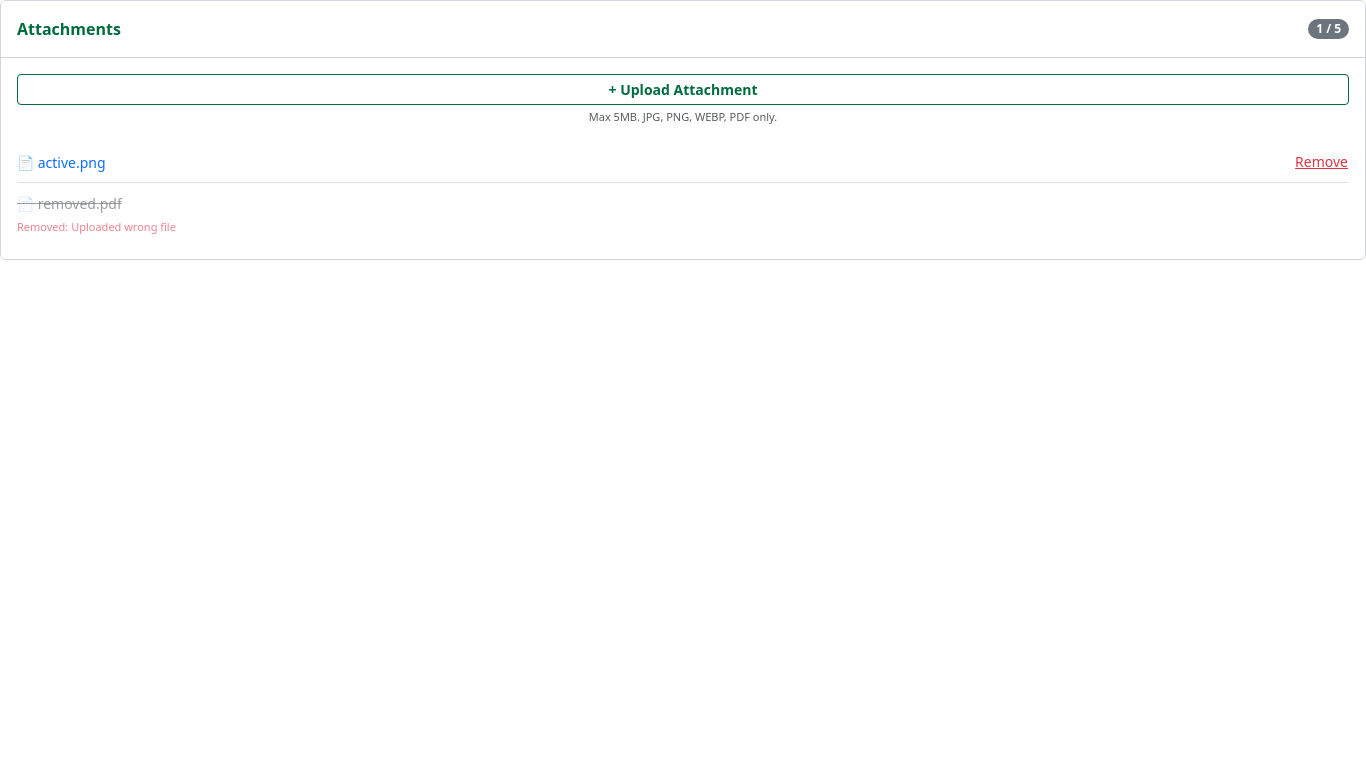
Test: AttachmentSection Component › should validate removal reason in modal
Step 1. Click the button "Remove" → (1322, 162), box top-left (1294, 150), bottom-right (1349, 173)
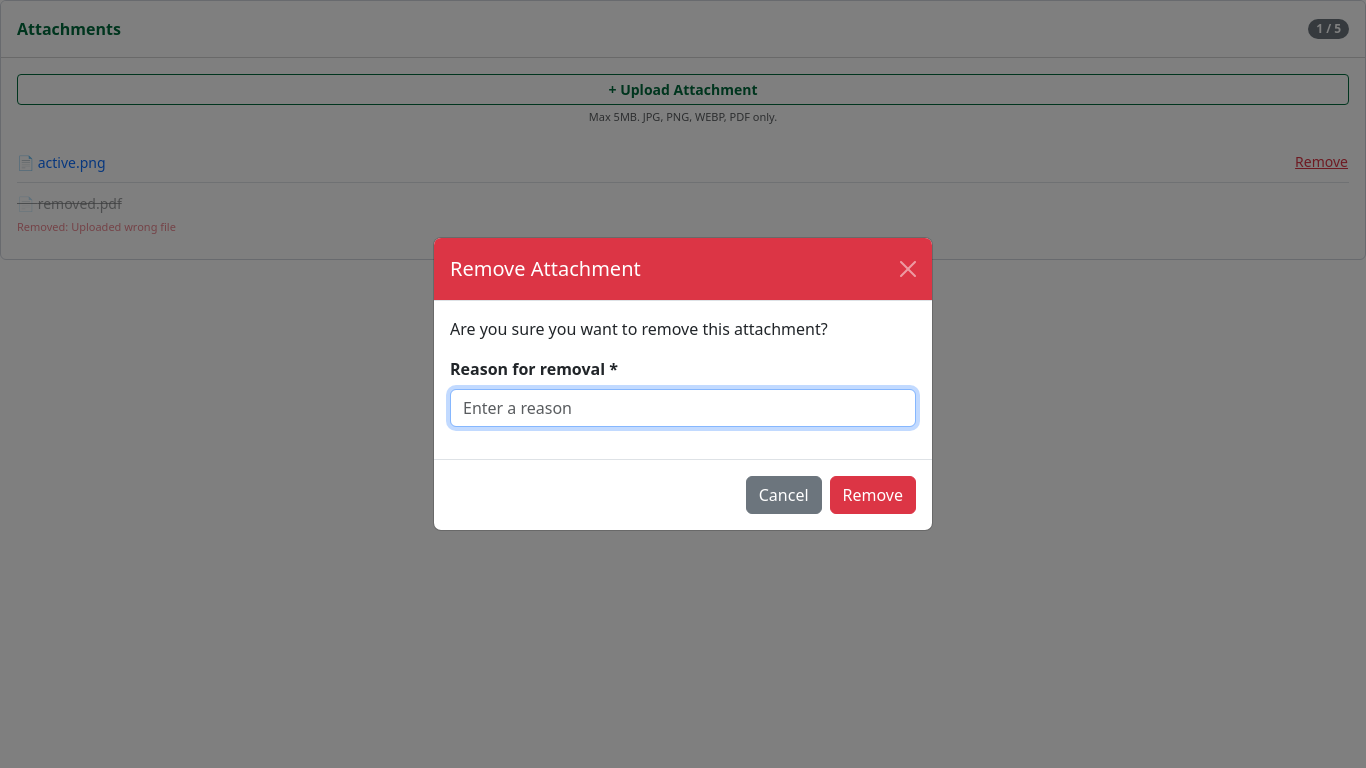
// click confirm without text
Step 2. Click the button "Remove" → (873, 495), box top-left (830, 476), bottom-right (916, 514)
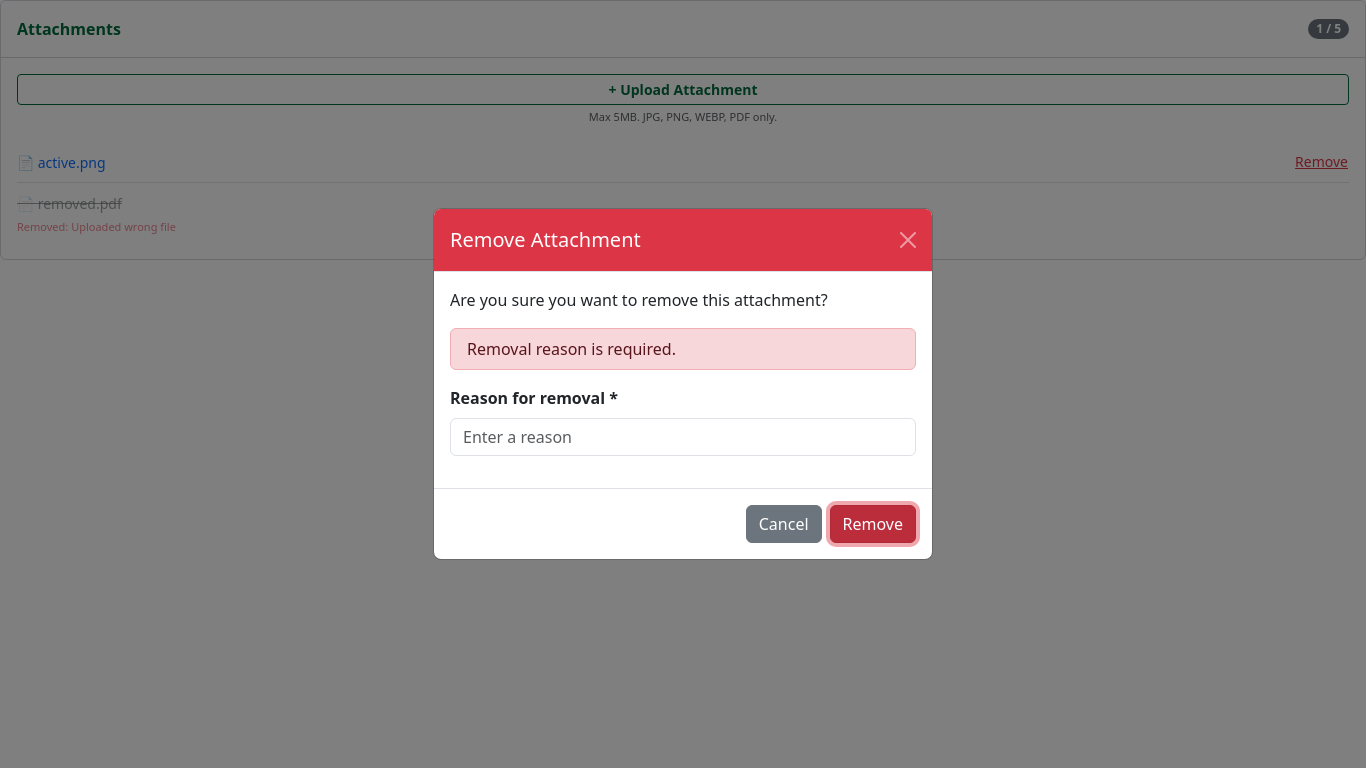
Expected: the text "Removal reason is required." is shown, top-left (450, 328), bottom-right (916, 370)
